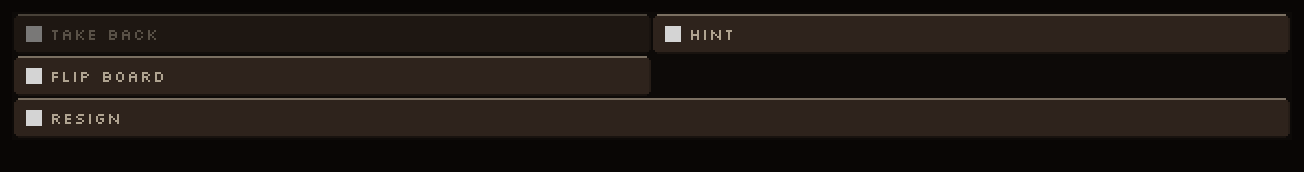
Test: UI Component Integration Tests › the resign key › arms on the first press without ending the game
The image size is (1304, 172).
What coordinates should you click on to do the following:
click the button "Resign"
I would click on:
 (86, 118)
Its box is [14, 98, 1290, 138].
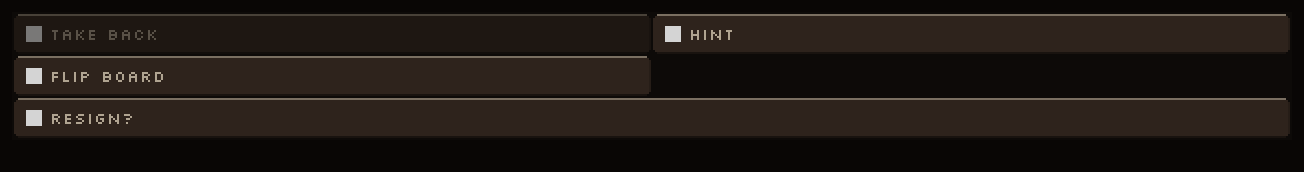
Check: the button "Resign?" is shown, box [14, 98, 1290, 138]
